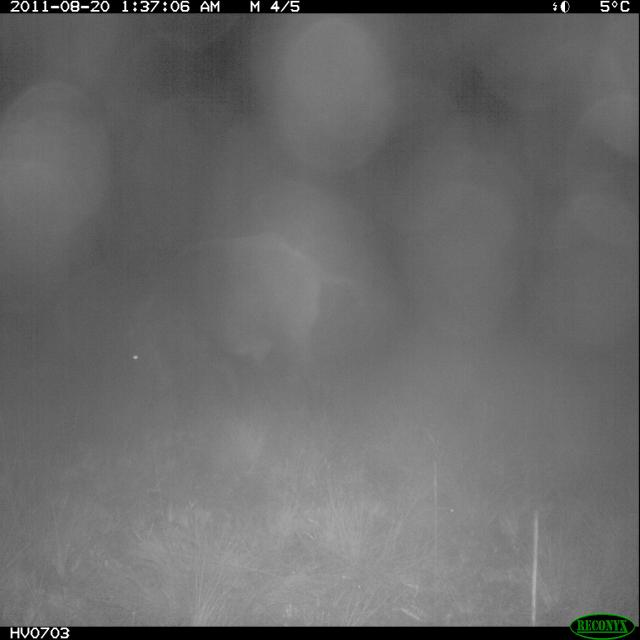boar: (72, 198, 365, 421)
